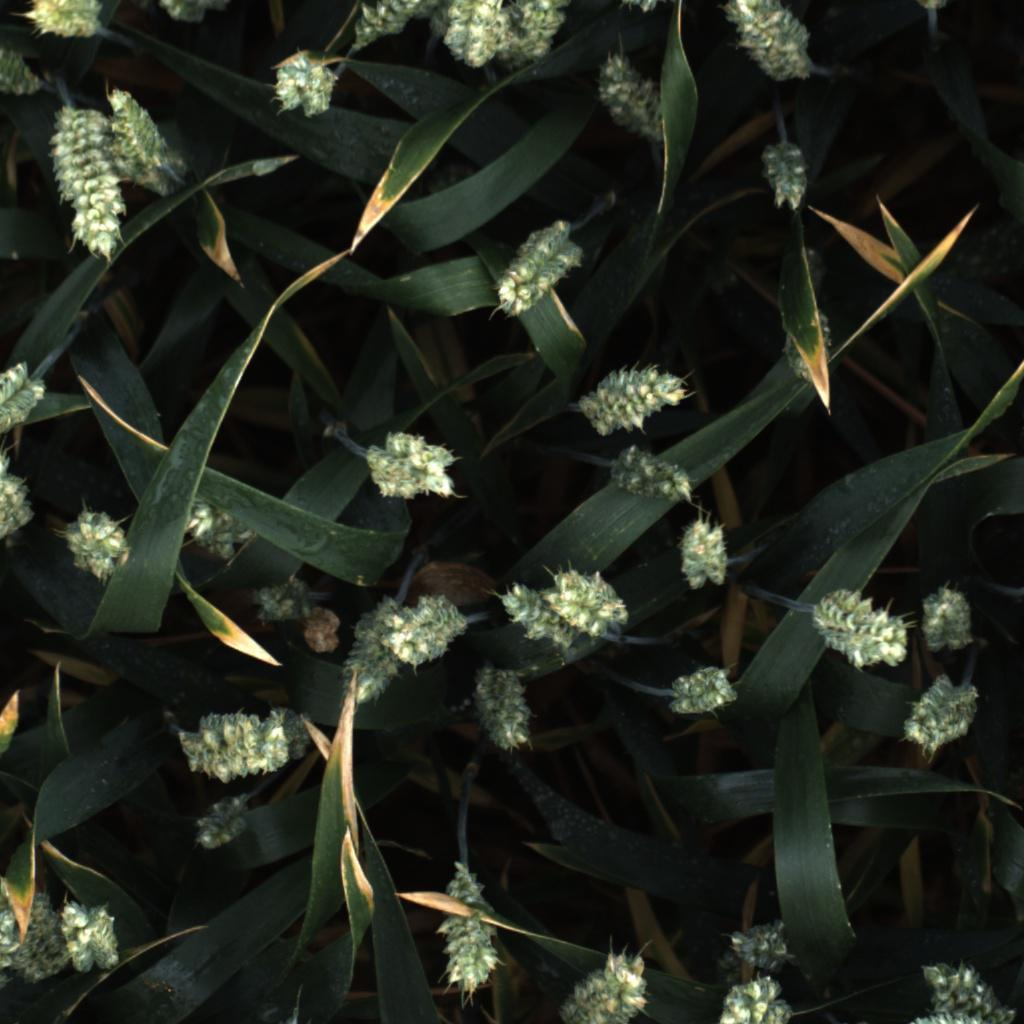0-0: (47, 105, 135, 267), (488, 221, 591, 321), (179, 706, 307, 784), (572, 356, 693, 437), (434, 860, 504, 1000), (718, 0, 821, 88), (900, 950, 1021, 1024), (555, 941, 659, 1024), (360, 426, 469, 505), (808, 590, 914, 671), (102, 81, 176, 190), (896, 669, 981, 760), (594, 50, 672, 145), (463, 661, 541, 755), (548, 563, 636, 644), (381, 585, 469, 666), (718, 905, 807, 983), (333, 597, 396, 703), (59, 504, 140, 583), (768, 297, 841, 384), (2, 881, 61, 987), (53, 893, 126, 976), (605, 443, 701, 504), (266, 50, 348, 119), (179, 491, 261, 558), (914, 580, 981, 659), (492, 575, 562, 648), (246, 566, 319, 636), (501, 0, 577, 67), (751, 137, 815, 215), (663, 661, 740, 724), (673, 518, 737, 593), (346, 0, 441, 48), (288, 595, 357, 658), (186, 792, 257, 851), (446, 0, 504, 72), (0, 357, 46, 441), (718, 976, 798, 1024), (19, 0, 107, 43), (141, 0, 252, 28), (0, 455, 33, 544), (0, 38, 43, 104)
